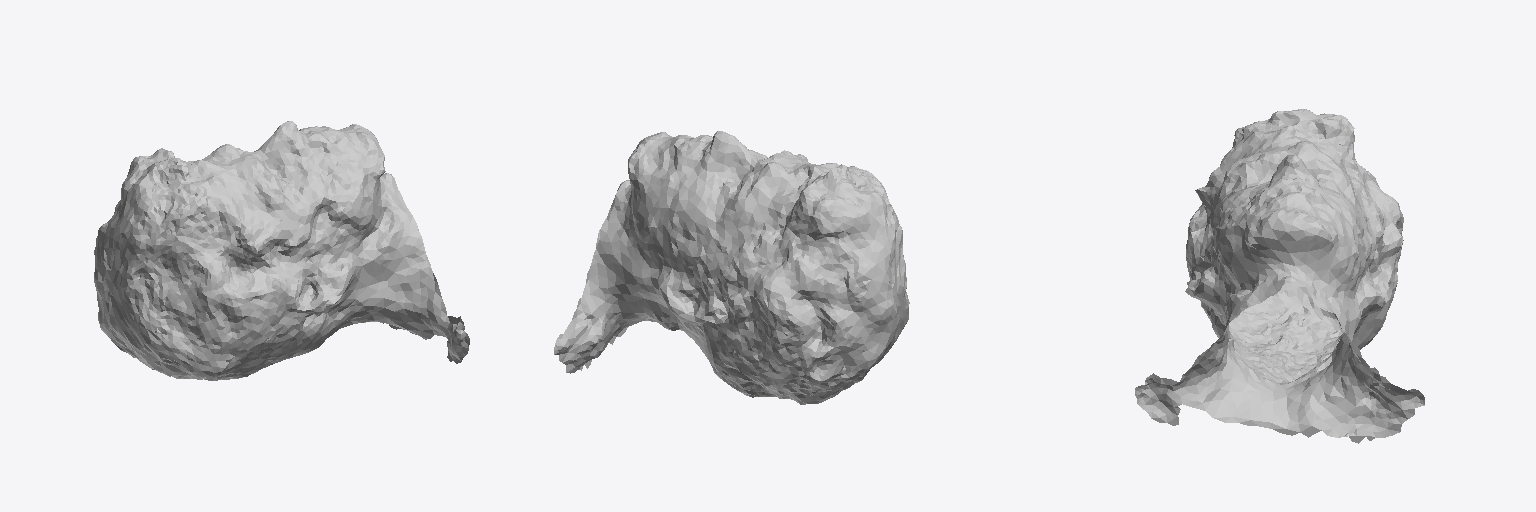
Rendered from ton.obj.
3 views of the same model, side by side, from view 1: azimuth 30°, elevation 25°; view 2: azimuth 150°, elevation 25°; view 3: azimuth 270°, elevation 25° (orthographic).
Parts seen in each view (by area): view 1: Mesh_0; view 2: Mesh_0; view 3: Mesh_0.
Boxes of the visible parts, x1=… form: Mesh_0: x1=94, y1=121, x2=469, y2=380; Mesh_0: x1=554, y1=131, x2=909, y2=404; Mesh_0: x1=1135, y1=109, x2=1424, y2=443.
Size of the model in its own units: 0.5226 by 0.4227 by 0.4663.